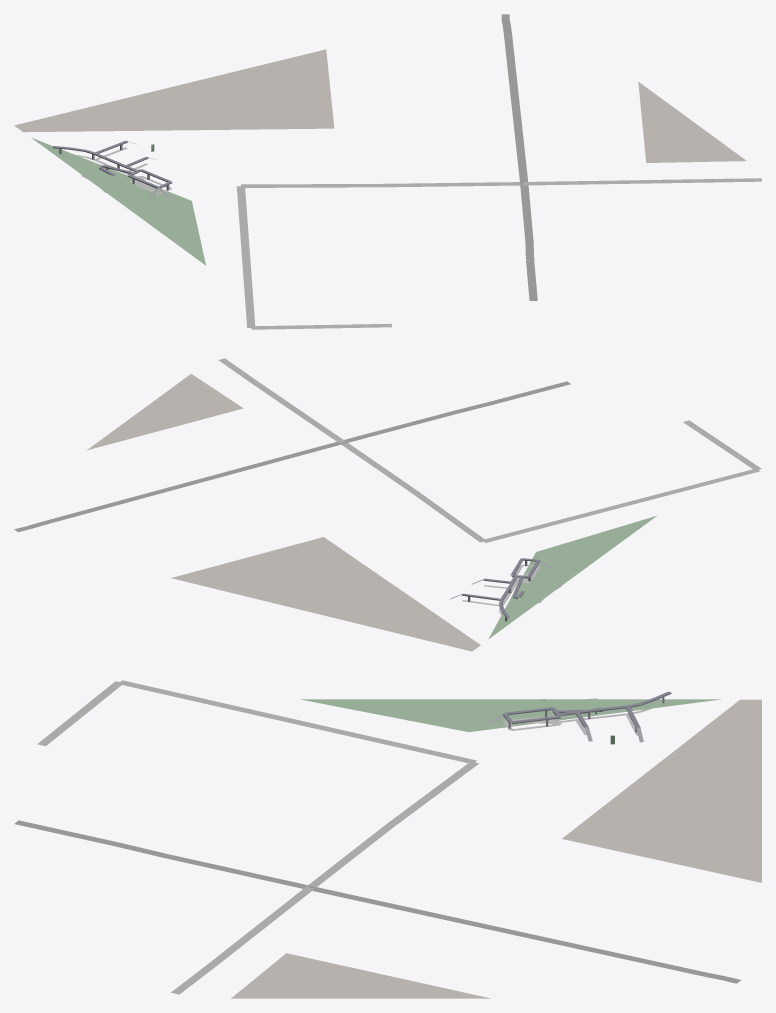
3 views of the same model, one above another, from view 1: azimuth 30°, elevation 25°; view 2: azimuth 150°, elevation 25°; view 3: azimuth 270°, elevation 25° (orthographic). The views are drawn at different scales.
Size of the model in its own units: 532 by 7.78 by 526.
